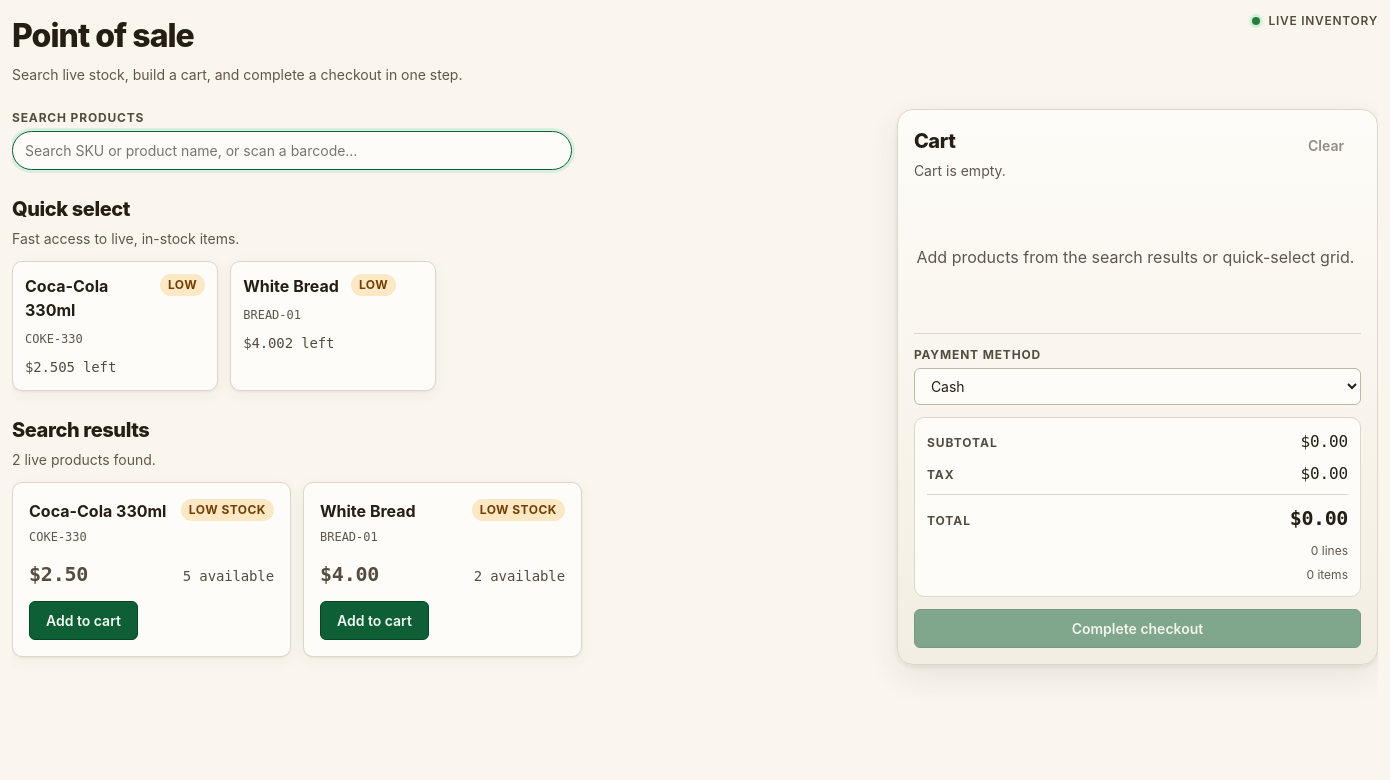
it: PosPanel › barcode scanner input › manual substring search still filters results unaffected by scan detection
Type "bread" into the search field labelled "Search products" at (292,150), box [12,131,572,170]
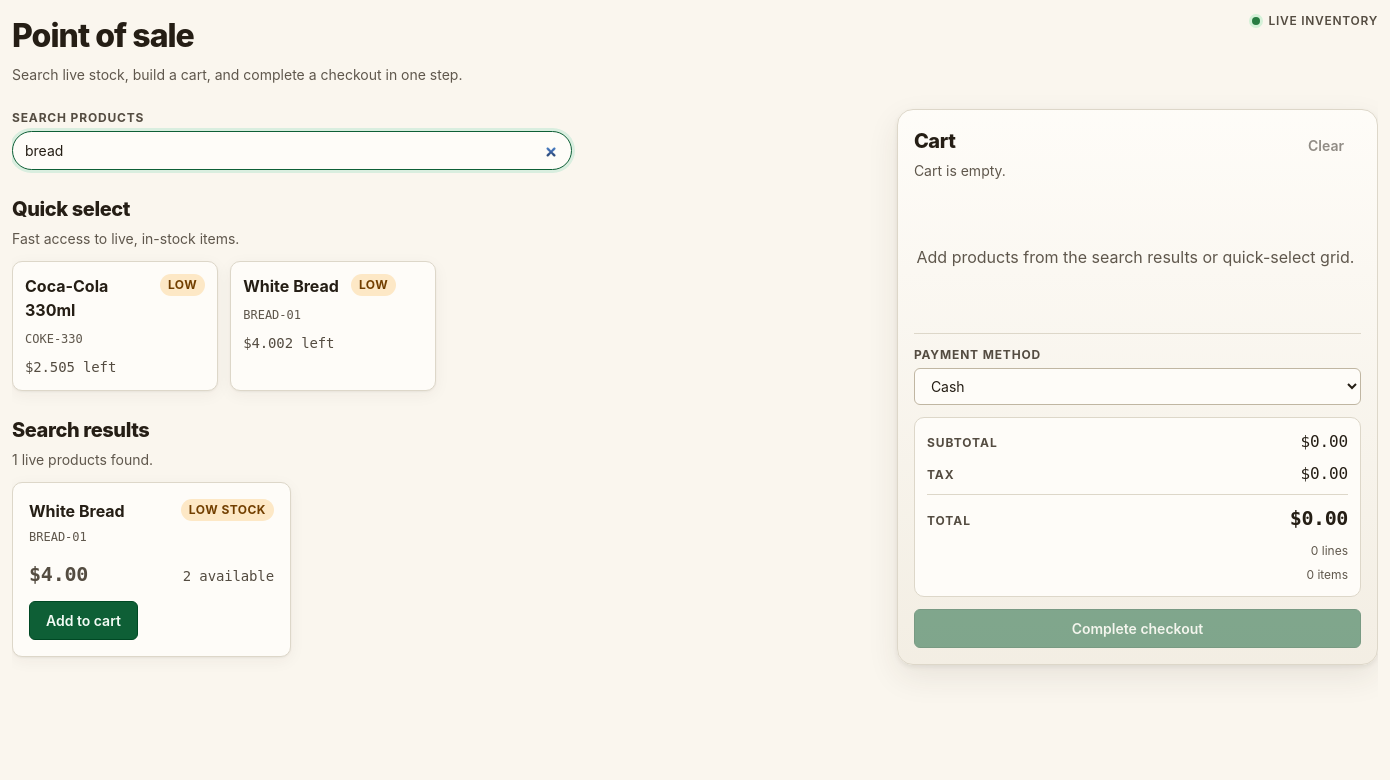
Expected: the text "White Bread" is shown, [243,274,339,298]
Expected: the text "1 live products found." is shown, [12,449,153,470]
